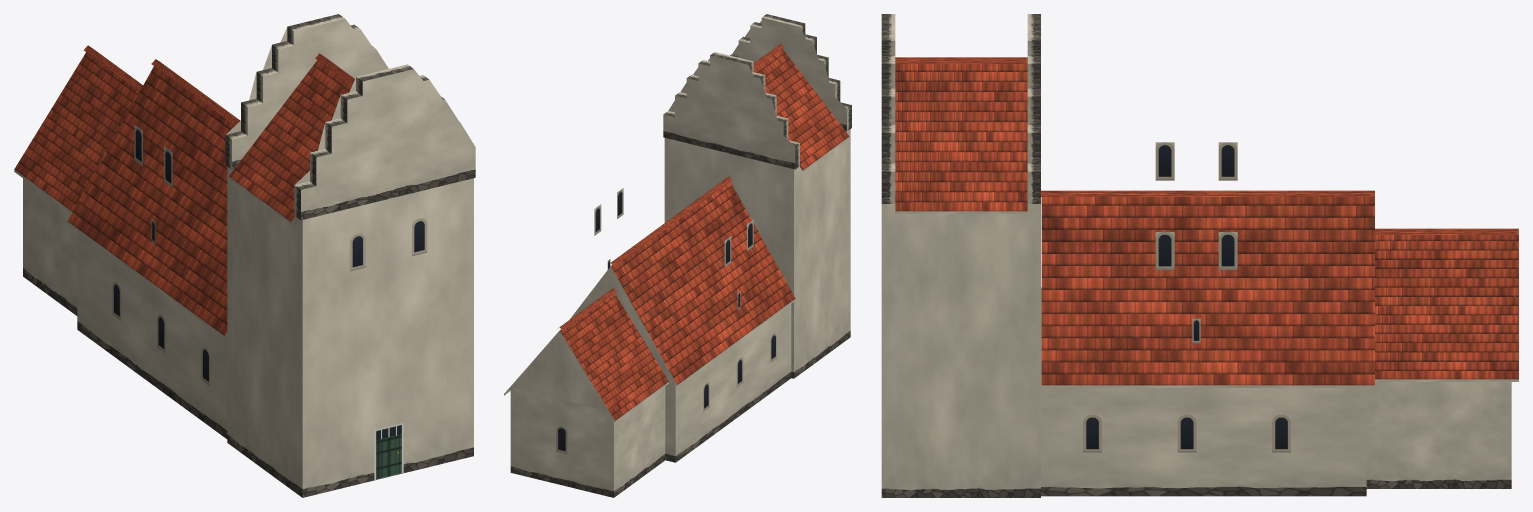
The model's file is SM_Church.fbx.
3 views of the same model, side by side, from view 1: azimuth 30°, elevation 25°; view 2: azimuth 150°, elevation 25°; view 3: azimuth 270°, elevation 25° (orthographic). The views are drawn at different scales.
Visible parts, largest first — view 1: SM_Church; view 2: SM_Church; view 3: SM_Church.
Boxes of the visible parts, x1=… form: SM_Church: x1=14, y1=14, x2=475, y2=497; SM_Church: x1=504, y1=14, x2=851, y2=497; SM_Church: x1=881, y1=14, x2=1518, y2=497.
Size of the model in its own units: 1060 by 3042 by 2240.
Materials: 1 (1 with a texture image).
